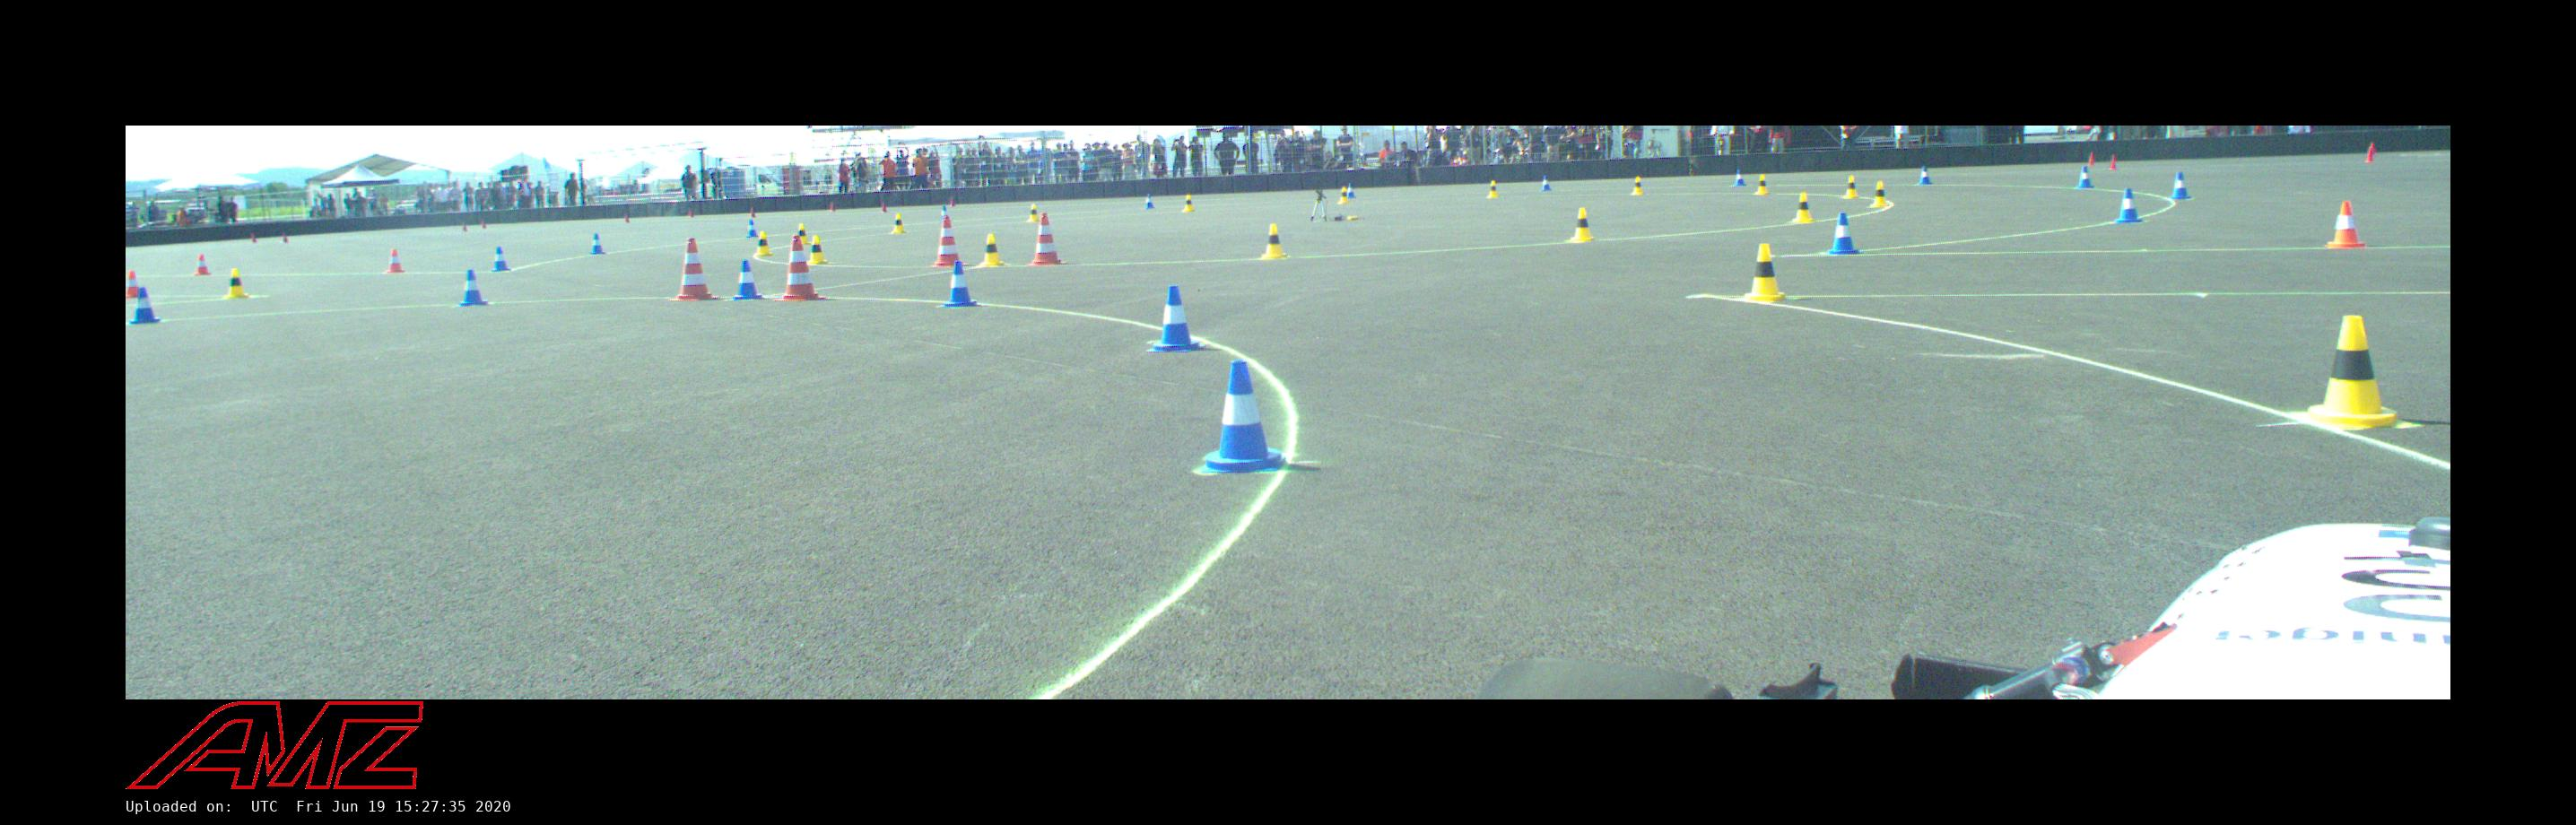blue_cone: (1201, 360, 1286, 473), (1147, 286, 1204, 352), (938, 261, 982, 307), (1824, 212, 1865, 255), (455, 268, 490, 307), (733, 260, 764, 301), (128, 288, 161, 324), (2114, 187, 2142, 224), (2169, 173, 2192, 200), (491, 247, 513, 271), (2075, 166, 2095, 189), (590, 233, 606, 255), (1917, 166, 1934, 186), (746, 219, 757, 238), (1733, 169, 1746, 186), (1539, 176, 1553, 191), (1345, 182, 1357, 199), (940, 205, 951, 222), (1145, 192, 1155, 210)
large_orange_cone: (774, 235, 826, 301), (667, 238, 721, 301), (1027, 212, 1066, 266), (930, 215, 968, 266)
orange_cone: (2325, 200, 2369, 248), (384, 248, 406, 273), (128, 271, 145, 299), (192, 253, 212, 276)
yellow_cone: (2297, 316, 2412, 427), (1740, 243, 1787, 302), (1567, 209, 1595, 242), (1262, 224, 1286, 260), (979, 233, 1005, 266), (223, 268, 250, 299), (1791, 192, 1814, 222), (807, 235, 828, 265), (1870, 181, 1889, 207), (754, 232, 774, 256), (795, 222, 812, 247), (1843, 176, 1860, 199), (892, 214, 909, 233), (1485, 179, 1500, 199), (1755, 174, 1769, 194), (1631, 176, 1644, 194), (1181, 194, 1194, 212), (1027, 204, 1040, 222), (1337, 186, 1349, 204)
